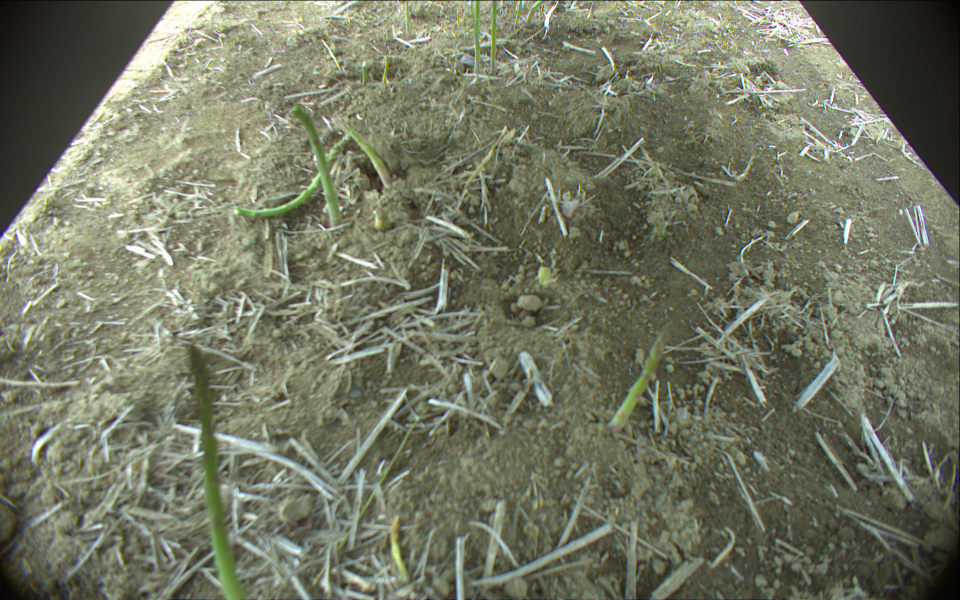aspa: (184, 343, 247, 600), (231, 134, 351, 218), (290, 104, 342, 227), (608, 333, 665, 430), (337, 119, 393, 190), (472, 1, 481, 75), (491, 1, 498, 75), (527, 1, 542, 27), (403, 1, 411, 37), (515, 3, 523, 31)
